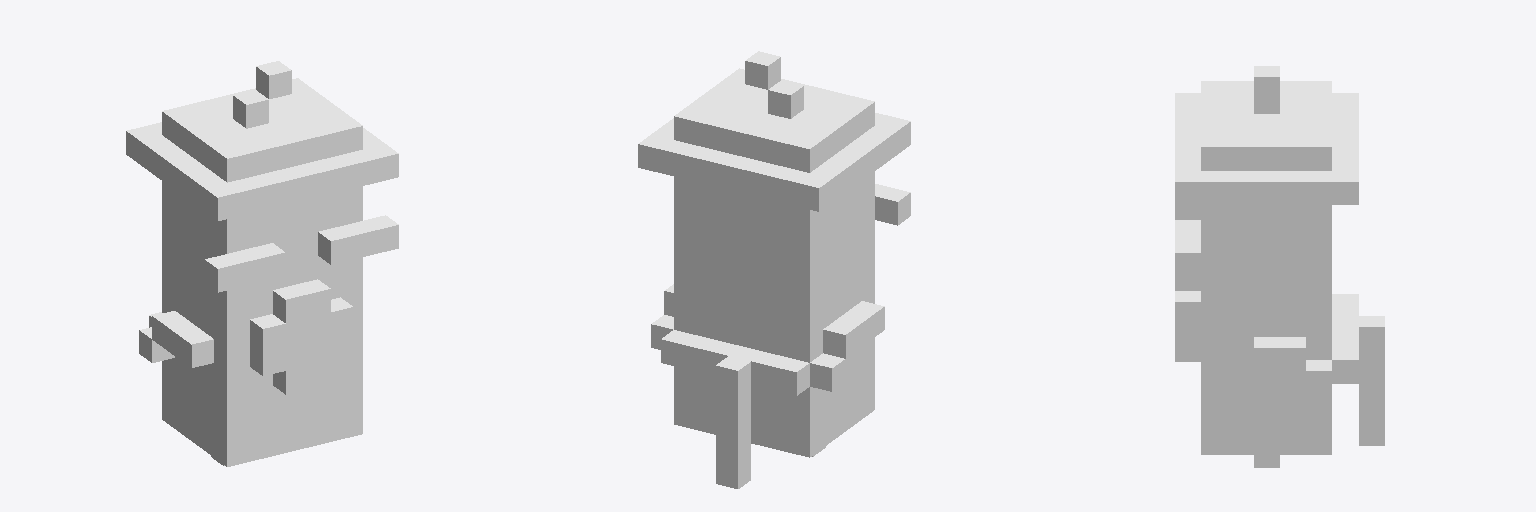
File: oldPeople001.obj
The picture shows the model from 3 angles: view 1: azimuth 30°, elevation 25°; view 2: azimuth 150°, elevation 25°; view 3: azimuth 270°, elevation 25°; orthographic projection.
Parts seen in each view (by area): view 1: oldPeople001; view 2: oldPeople001; view 3: oldPeople001.
Part boxes in pixels (x1,y1,x2,y2): oldPeople001: (126, 61, 398, 466); oldPeople001: (638, 51, 910, 488); oldPeople001: (1175, 66, 1384, 467).
Size of the model in its own units: 8 by 16 by 8.